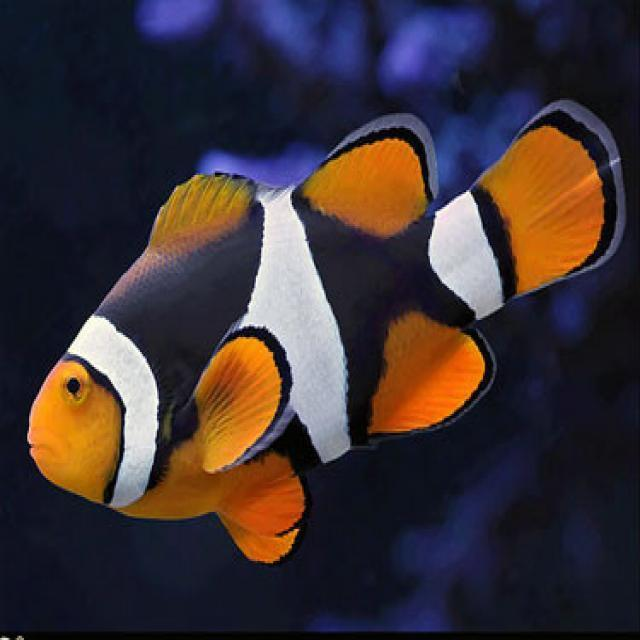ClownFish: (23, 103, 620, 564)
